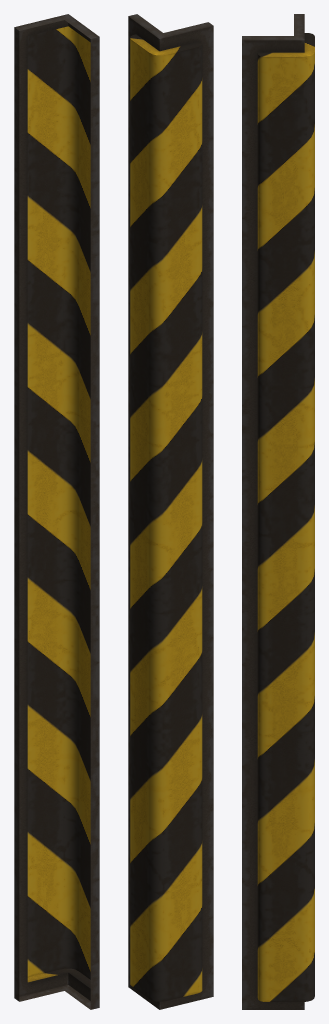
File: subway_safetyguard.FBX
3 renders of one model, left to right at view 1: azimuth 30°, elevation 25°; view 2: azimuth 210°, elevation 25°; view 3: azimuth 270°, elevation 25°, orthographic.
Parts seen in each view (by area): view 1: subway_safetyguard; view 2: subway_safetyguard; view 3: subway_safetyguard.
Boxes of the visible parts, x1=… form: subway_safetyguard: x1=14, y1=14, x2=99, y2=1009; subway_safetyguard: x1=128, y1=14, x2=213, y2=1009; subway_safetyguard: x1=242, y1=14, x2=314, y2=1009.
Size of the model in its own units: 10.08 by 10.08 by 148.
